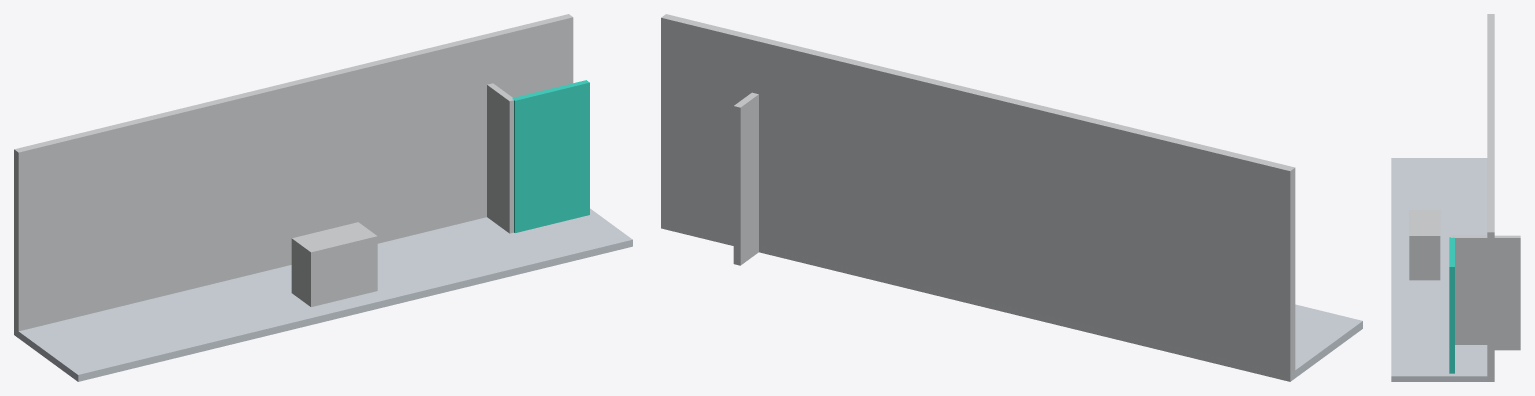
The picture shows the model from 3 angles, left to right: view 1: azimuth 30°, elevation 25°; view 2: azimuth 150°, elevation 25°; view 3: azimuth 270°, elevation 25°; orthographic projection. The views are drawn at different scales.
Visible parts, largest first — view 1: Exhibition Booth Concept; view 2: Exhibition Booth Concept; view 3: Exhibition Booth Concept.
Boxes of the visible parts, <box> form: Exhibition Booth Concept: <box>14,14,632,381</box>; Exhibition Booth Concept: <box>661,14,1362,381</box>; Exhibition Booth Concept: <box>1391,14,1520,381</box>.
Bounding box in the file's own units: 10 × 3.2 × 2.5.
